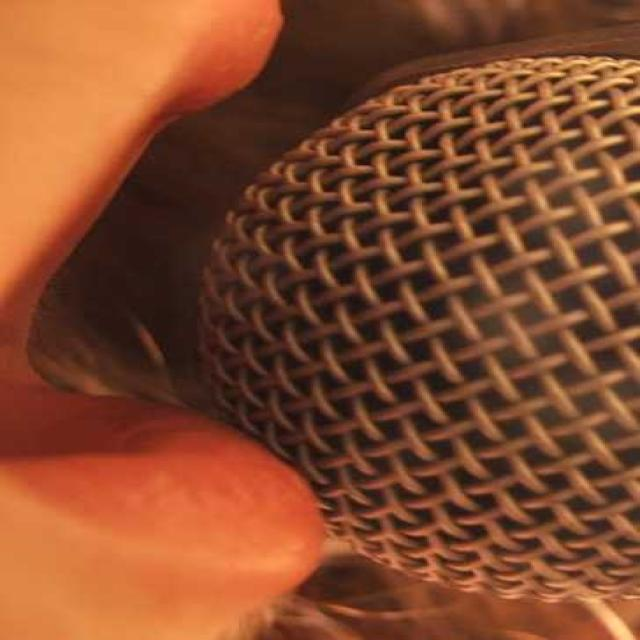microphone: (210, 64, 635, 588)
